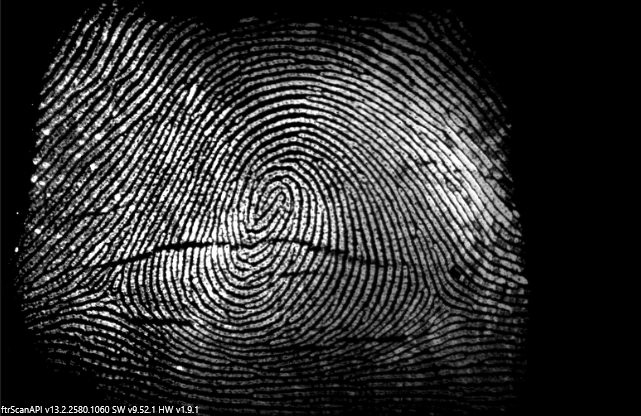nucelo: (255, 181, 297, 232)
verticilo: (94, 283, 123, 314), (427, 293, 457, 317)
